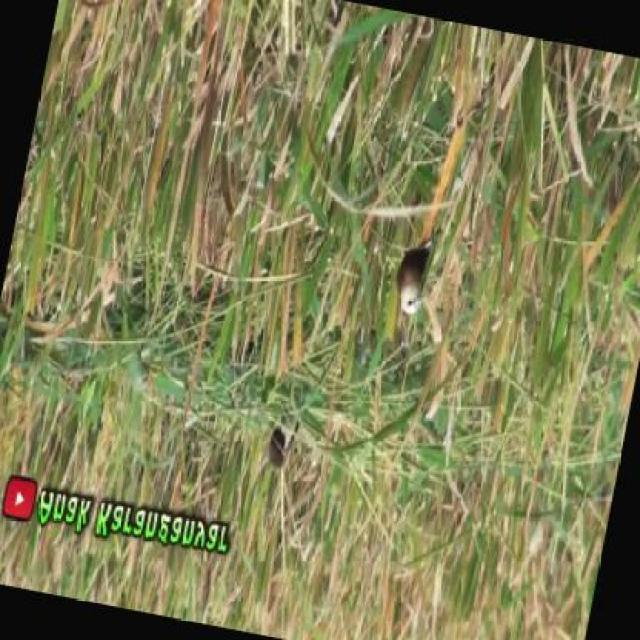Bird: (382, 234, 449, 330), (255, 422, 296, 469)
